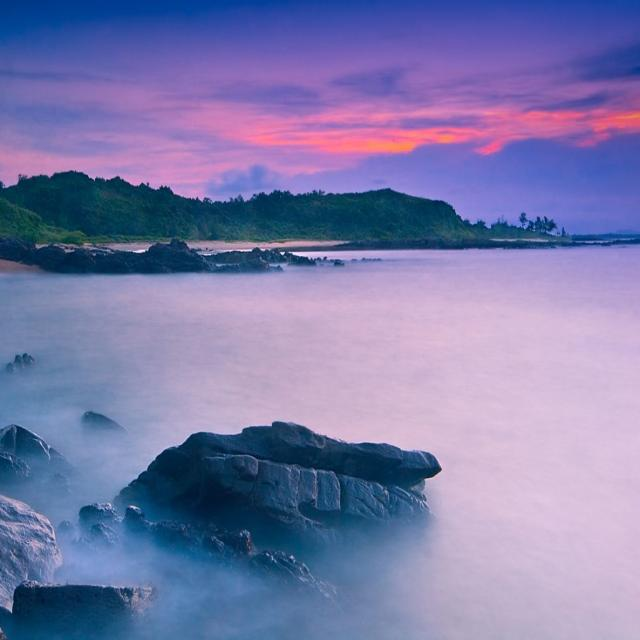island: (0, 150, 572, 283)
